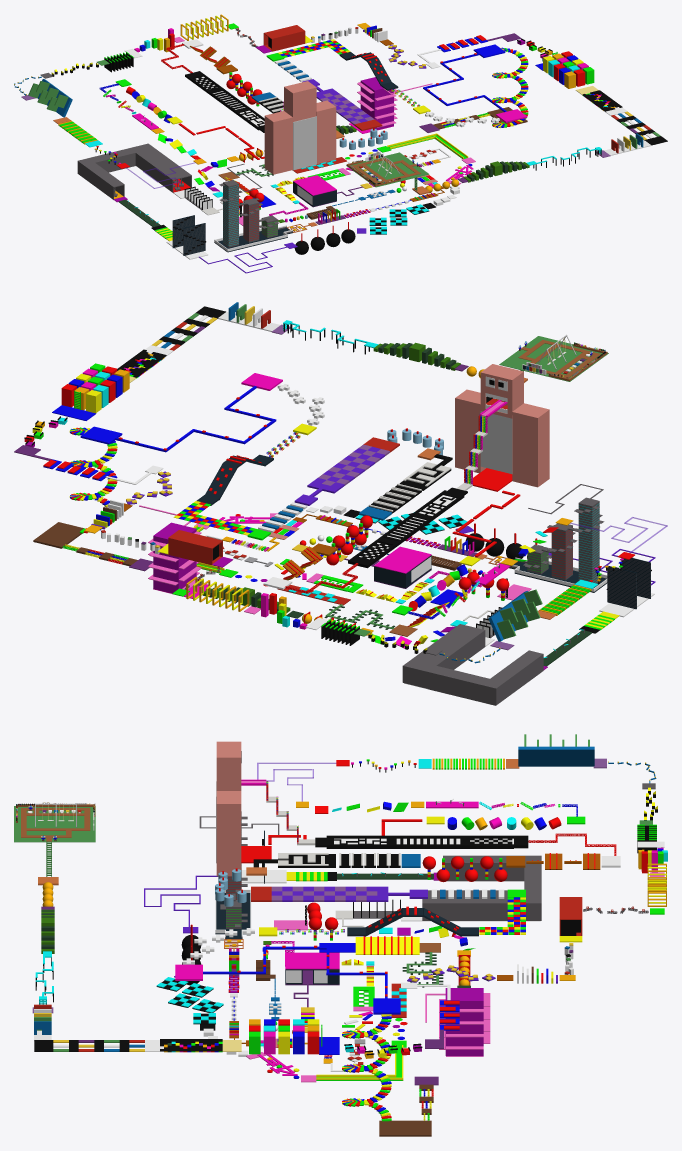
Rendered from colorful_100-stage_obby.glb.
3 views of the same model, one above another, from view 1: azimuth 30°, elevation 25°; view 2: azimuth 150°, elevation 25°; view 3: azimuth 270°, elevation 25° (orthographic). The views are drawn at different scales.
Parts seen in each view (by area): view 1: Object_107, Object_72, Object_88, Object_60, Object_75, Object_64, Object_81, Object_91, Object_93, Object_102, Object_61, Object_105 (+22 smaller); view 2: Object_107, Object_72, Object_88, Object_75, Object_60, Object_64, Object_81, Object_91, Object_93, Object_100, Object_102, Object_84 (+23 smaller); view 3: Object_72, Object_107, Object_75, Object_60, Object_81, Object_88, Object_84, Object_93, Object_91, Object_95, Object_100, Object_101 (+22 smaller).
Boxes of the visible parts, x1,y1,x2,y2 form: Object_107: (40, 28, 292, 255); Object_72: (51, 33, 667, 254); Object_88: (264, 81, 437, 184); Object_60: (125, 27, 653, 259); Object_75: (96, 32, 610, 241); Object_64: (172, 52, 398, 255); Object_81: (99, 25, 607, 222); Object_91: (28, 31, 660, 190); Object_93: (59, 23, 603, 238); Object_102: (58, 14, 615, 230); Object_61: (237, 25, 651, 173); Object_105: (85, 40, 607, 234); Object_107: (184, 484, 650, 705); Object_72: (24, 306, 651, 653); Object_88: (268, 364, 549, 539); Object_75: (24, 359, 634, 645); Object_60: (105, 308, 654, 688); Object_64: (196, 365, 650, 609); Object_81: (43, 344, 591, 641); Object_91: (127, 304, 608, 639); Object_93: (34, 363, 622, 642); Object_100: (81, 359, 510, 648); Object_102: (35, 353, 608, 635); Object_84: (69, 358, 619, 644); Object_72: (34, 751, 657, 1055); Object_107: (199, 783, 655, 938); Object_75: (183, 760, 616, 1118); Object_60: (27, 806, 664, 1056); Object_81: (31, 801, 577, 1112); Object_88: (216, 741, 292, 1047); Object_84: (175, 798, 666, 1116); Object_93: (191, 758, 664, 1121); Object_91: (14, 734, 652, 1051); Object_95: (34, 746, 656, 1051); Object_100: (179, 779, 663, 1075); Object_101: (228, 872, 483, 1055).
Bounding box in the file's own units: 721 × 239 × 669.
100 materials, 63 textured.
